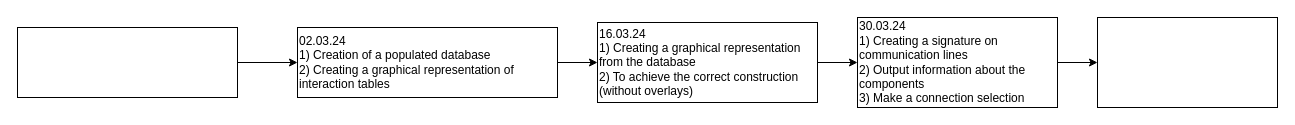
Some shapes in this 1295 by 125 pixel diagram are drawn without their labels. The centre of each missing label's shape, as x and y in pixels:
"13.04.24 Reserved" belongs at pixel 1187 62.
"17.02.24 (done) 1) Studying the issue 2) Preparation of introductory information" belongs at pixel 127 62.
